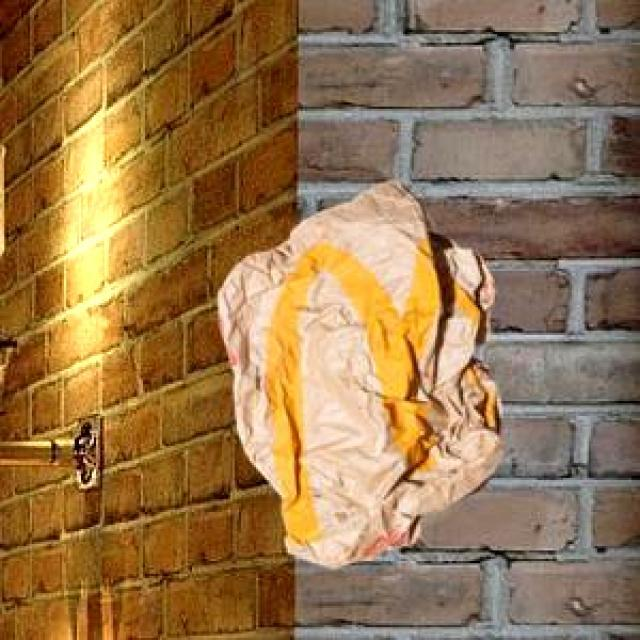Paper_Bag: (214, 178, 500, 564)
